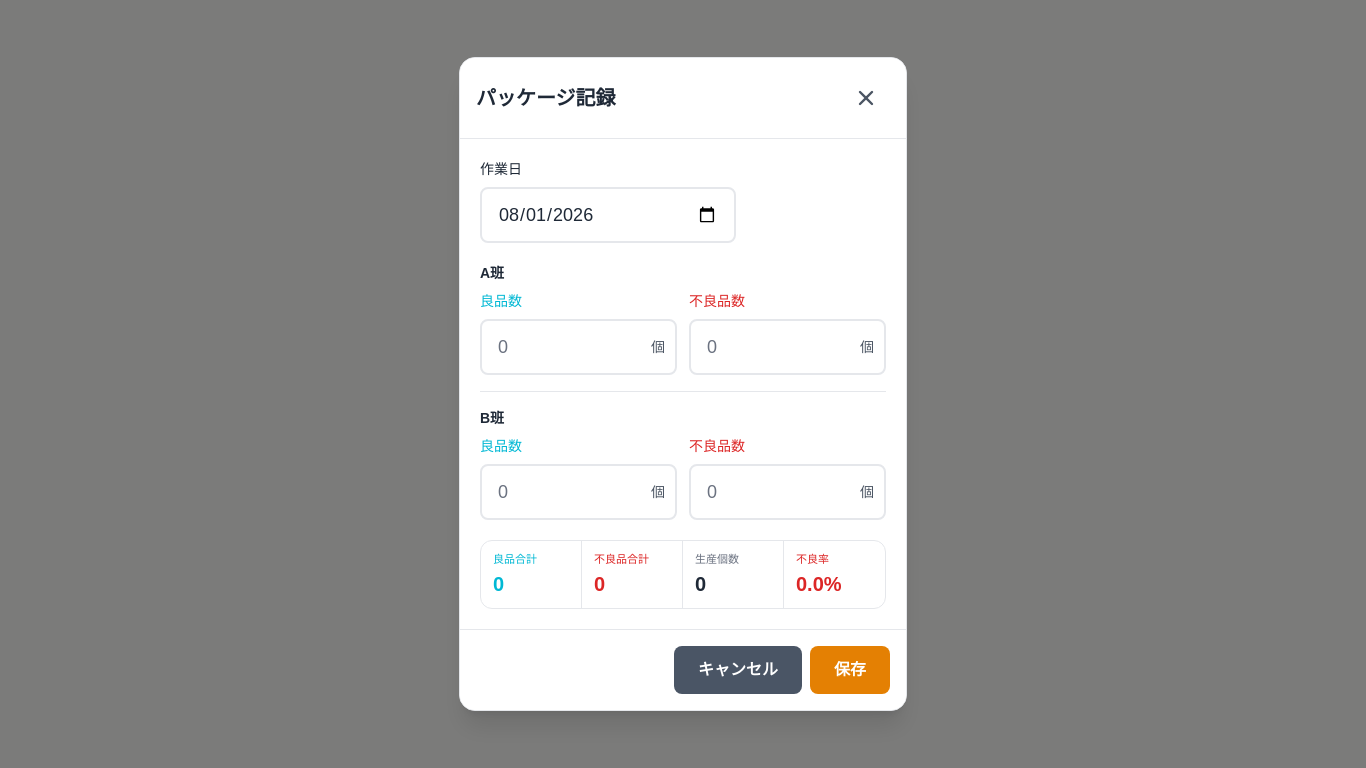
Test: PackageEntryModal › 合計・生産個数・不良率をリアルタイム表示する
This screenshot has width=1366, height=768.
# A班 良90/不5, B班 良95/不10 → 良185 / 不15 / 生産200 / 不良率7.5%
Type "90" into the number field labelled "良品数" below "A班" at (578, 347), box [480,319,677,375]
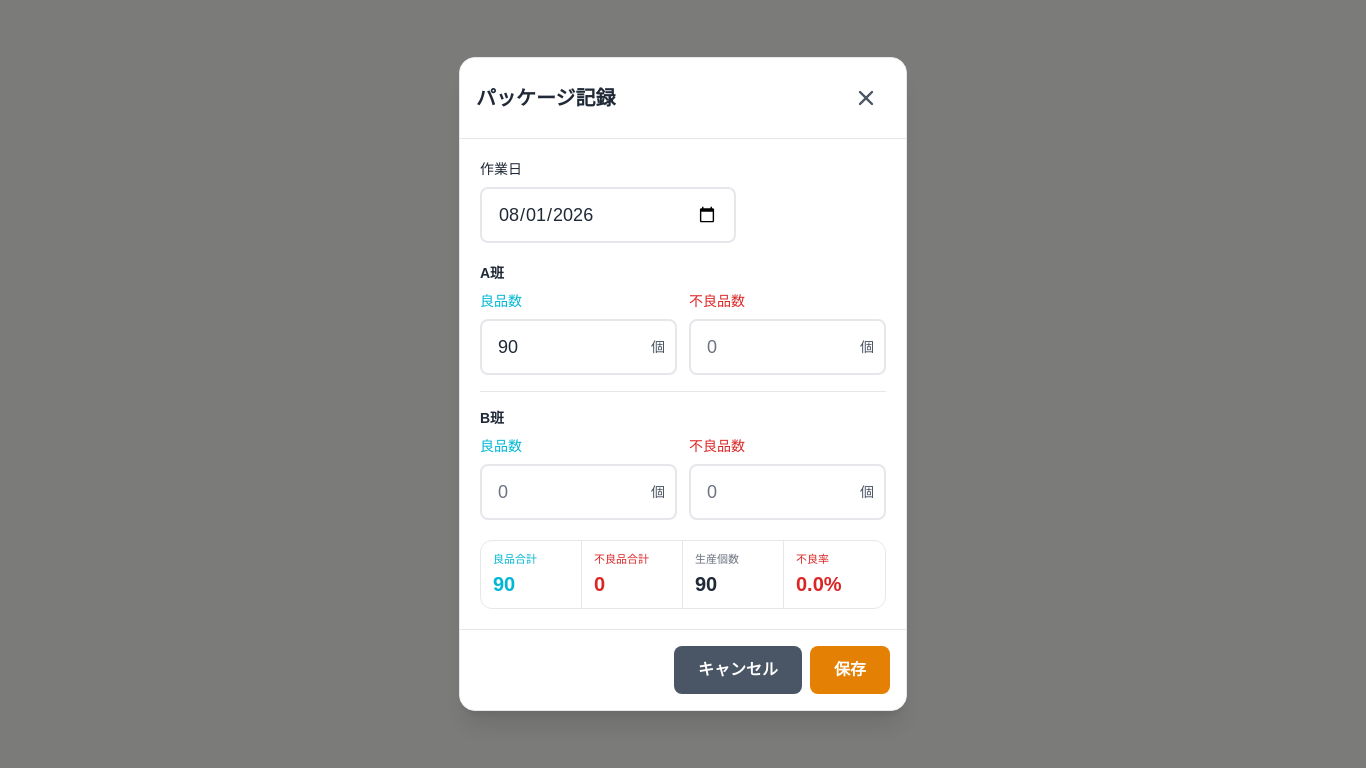
Type "5" into the number field labelled "不良品数" below "A班" at (788, 347), box [689,319,886,375]
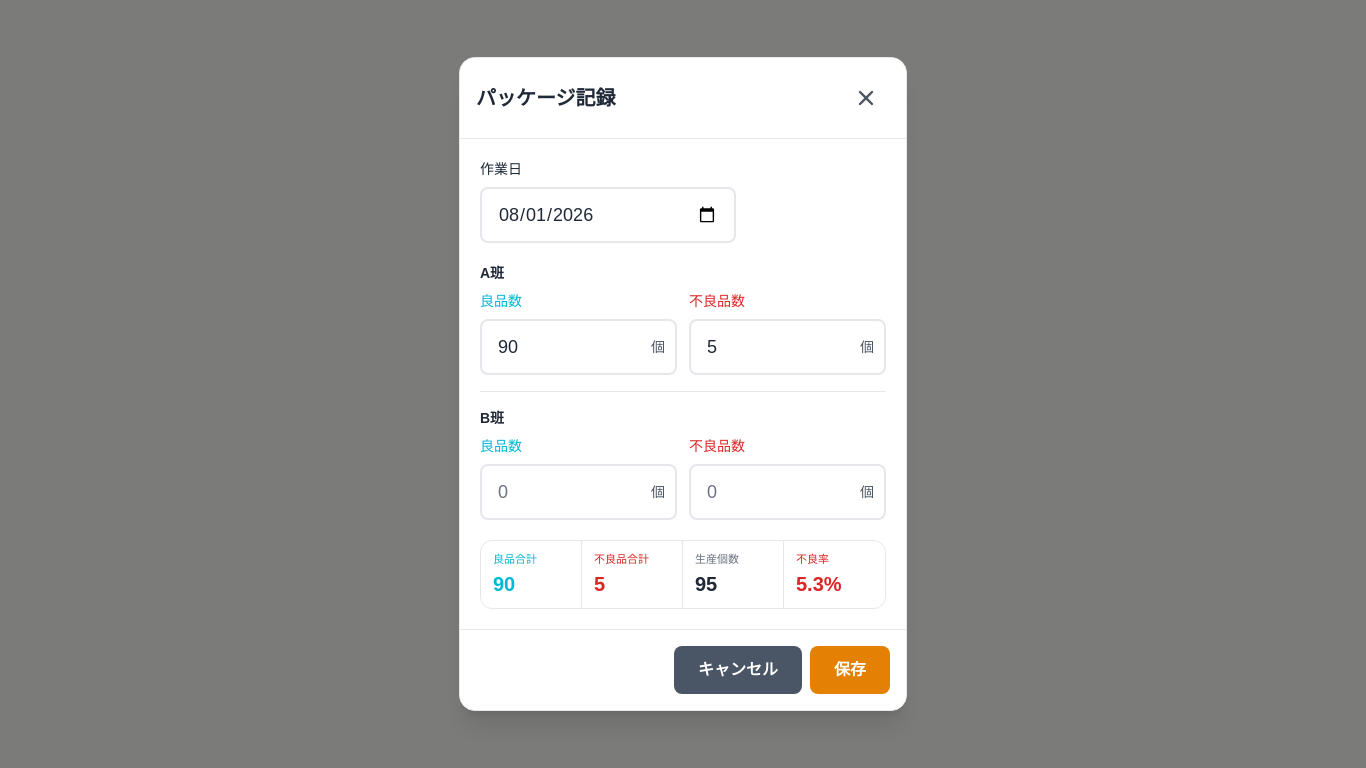
Type "95" into the number field labelled "良品数" below "B班" at (578, 492), box [480,464,677,520]
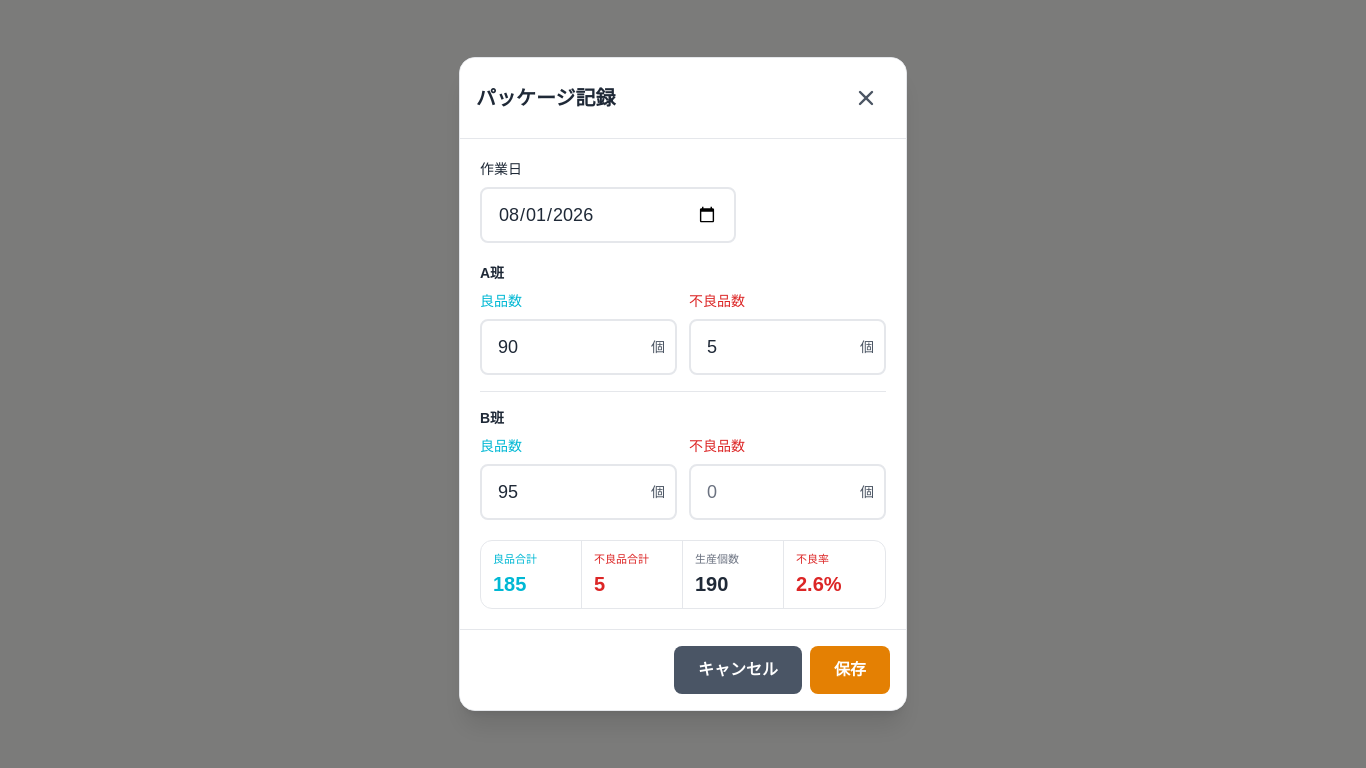
Type "10" into the number field labelled "不良品数" below "B班" at (788, 492), box [689,464,886,520]
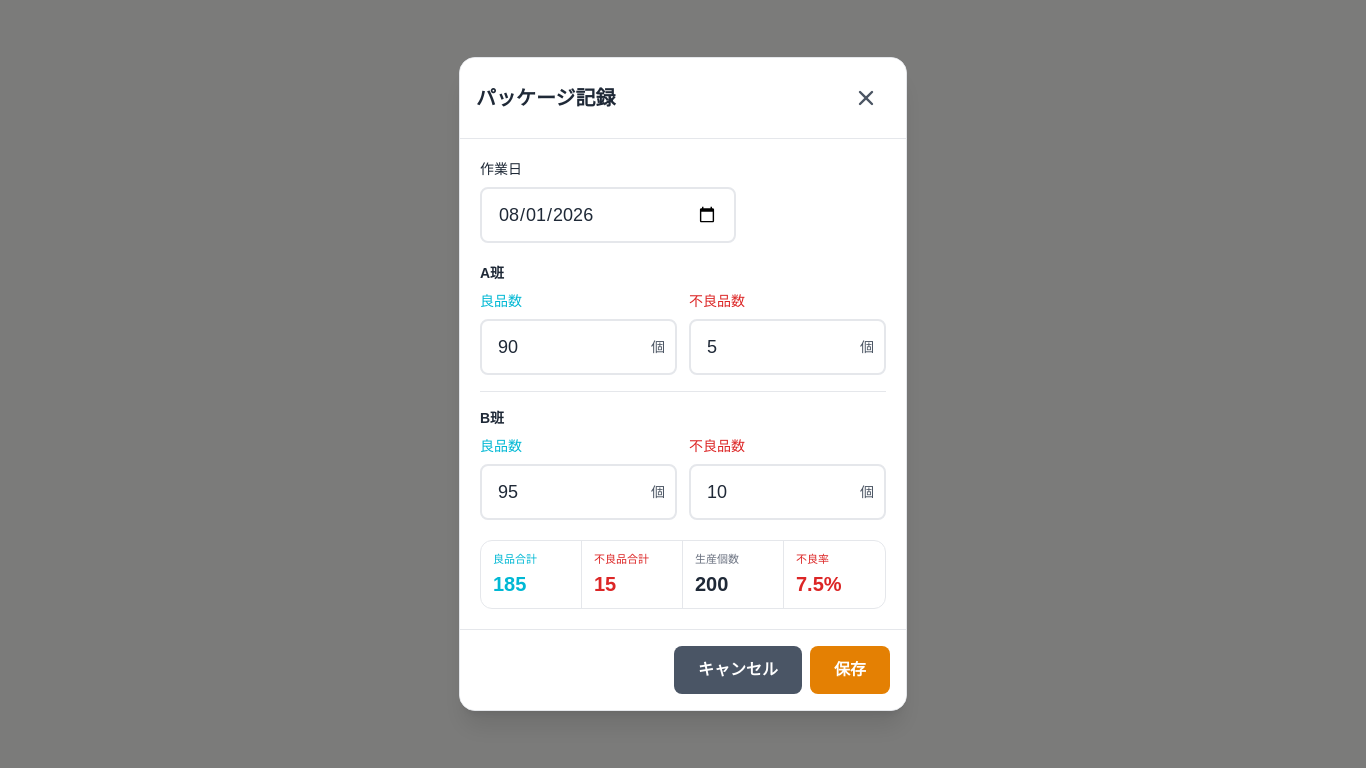
Result: the text "185" is shown at [493,573,526,595]
Result: the text "15" is shown at [594,573,616,595]
Result: the text "200" is shown at [695,573,728,595]
